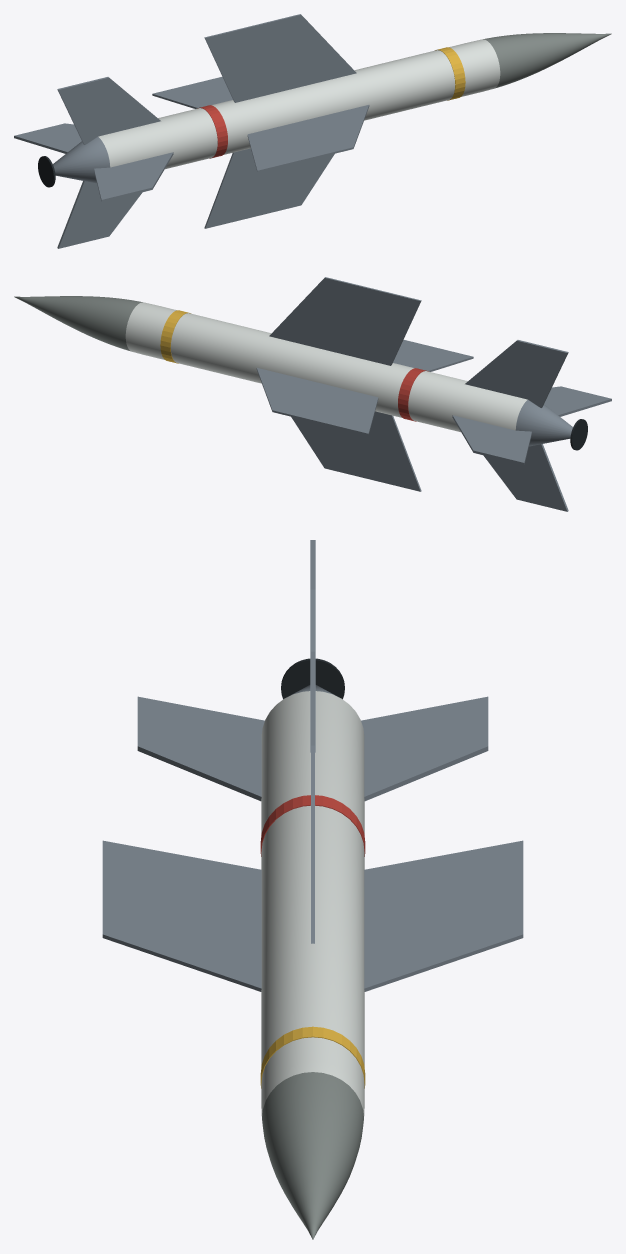
3 renders of one model, top to bottom at view 1: azimuth 30°, elevation 25°; view 2: azimuth 150°, elevation 25°; view 3: azimuth 270°, elevation 25°, orthographic. The views are drawn at different scales.
Visible parts, largest first — view 1: cw90_kh22; view 2: cw90_kh22; view 3: cw90_kh22.
Boxes of the visible parts, bbox=[...] form: cw90_kh22: bbox=[14, 14, 611, 248]; cw90_kh22: bbox=[14, 277, 611, 511]; cw90_kh22: bbox=[102, 540, 523, 1239].
Bounding box in the file's own units: 10 × 3.22 × 3.22.
